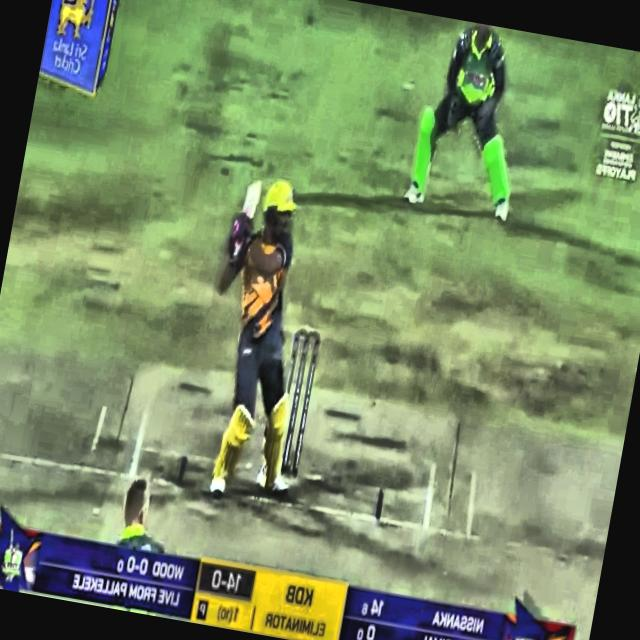Left-stump: (293, 343, 318, 471)
Middle-stump: (282, 340, 308, 470)
